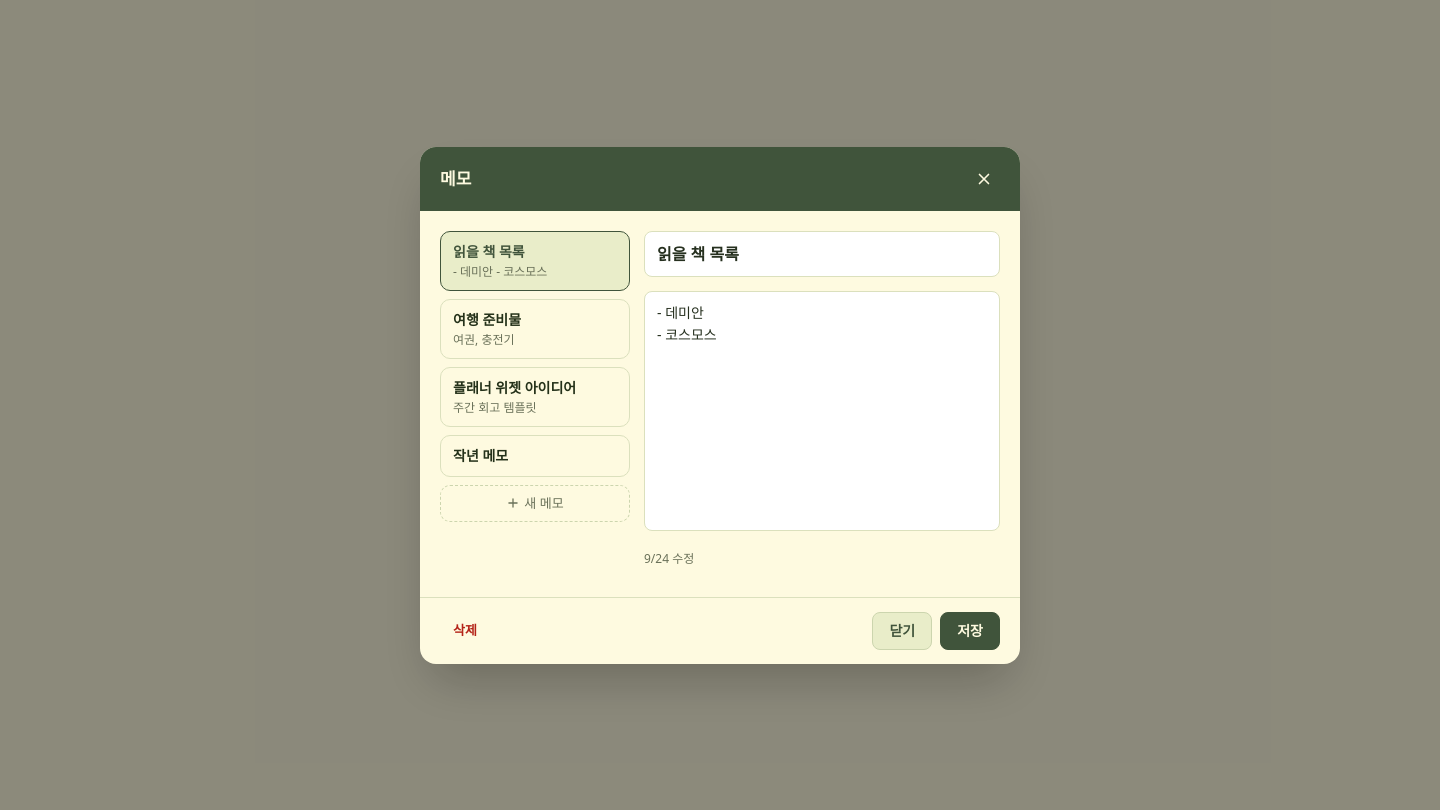
메모 창 OV-06 (US-25) › 바꾼 채 다른 메모를 누르면 "작성을 취소할까요?" (D-037)
Type "!" into the field named "메모 제목".
click(822, 254); type("!")  # box [644, 230, 1000, 276]
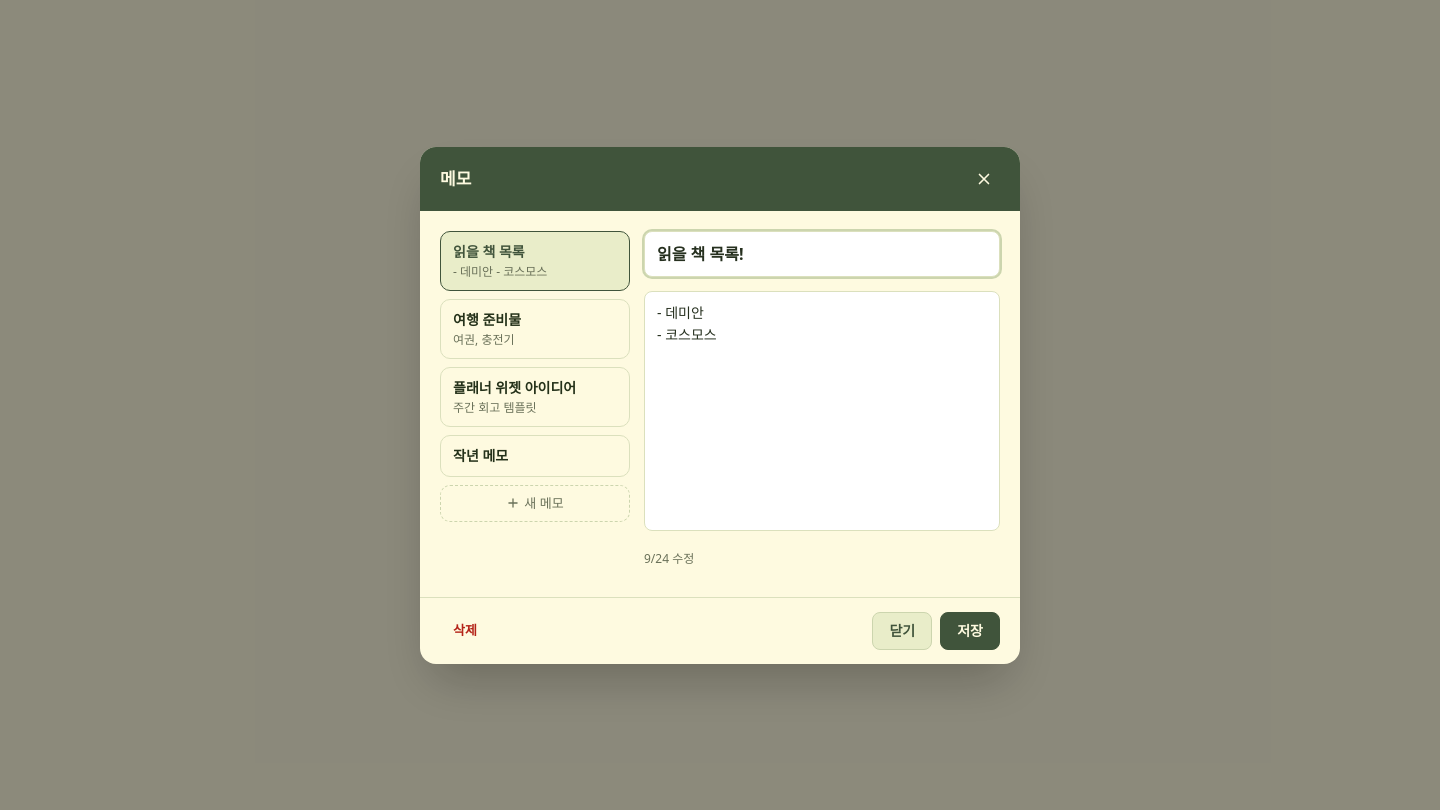
Click the text "여행 준비물".
click(487, 319)  # box [453, 310, 521, 328]
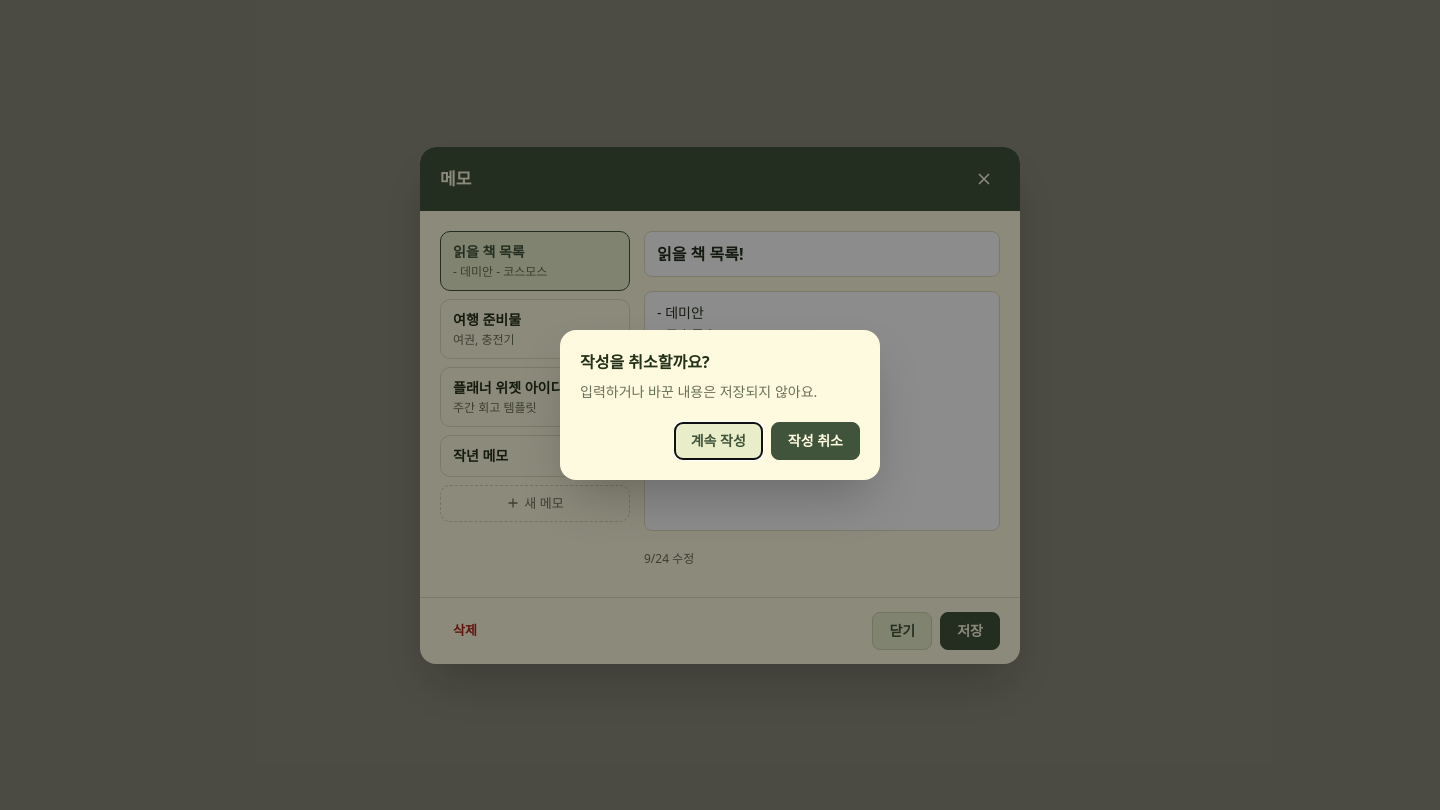
Click the button "계속 작성".
click(718, 441)  # box [674, 422, 763, 460]
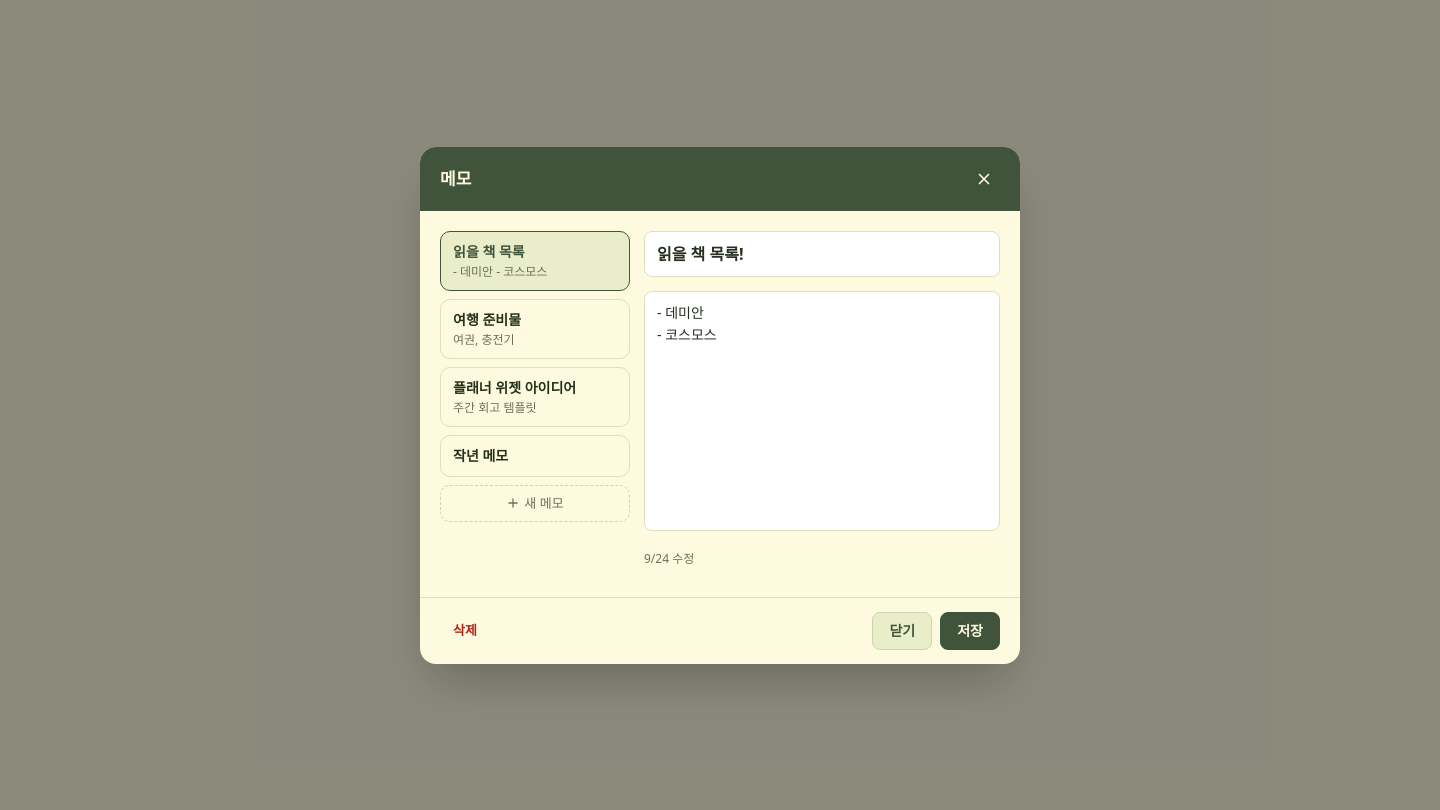
Now the field named "메모 제목" holds "읽을 책 목록!", box [644, 230, 1000, 276]
Click the text "여행 준비물".
click(487, 319)  # box [453, 310, 521, 328]
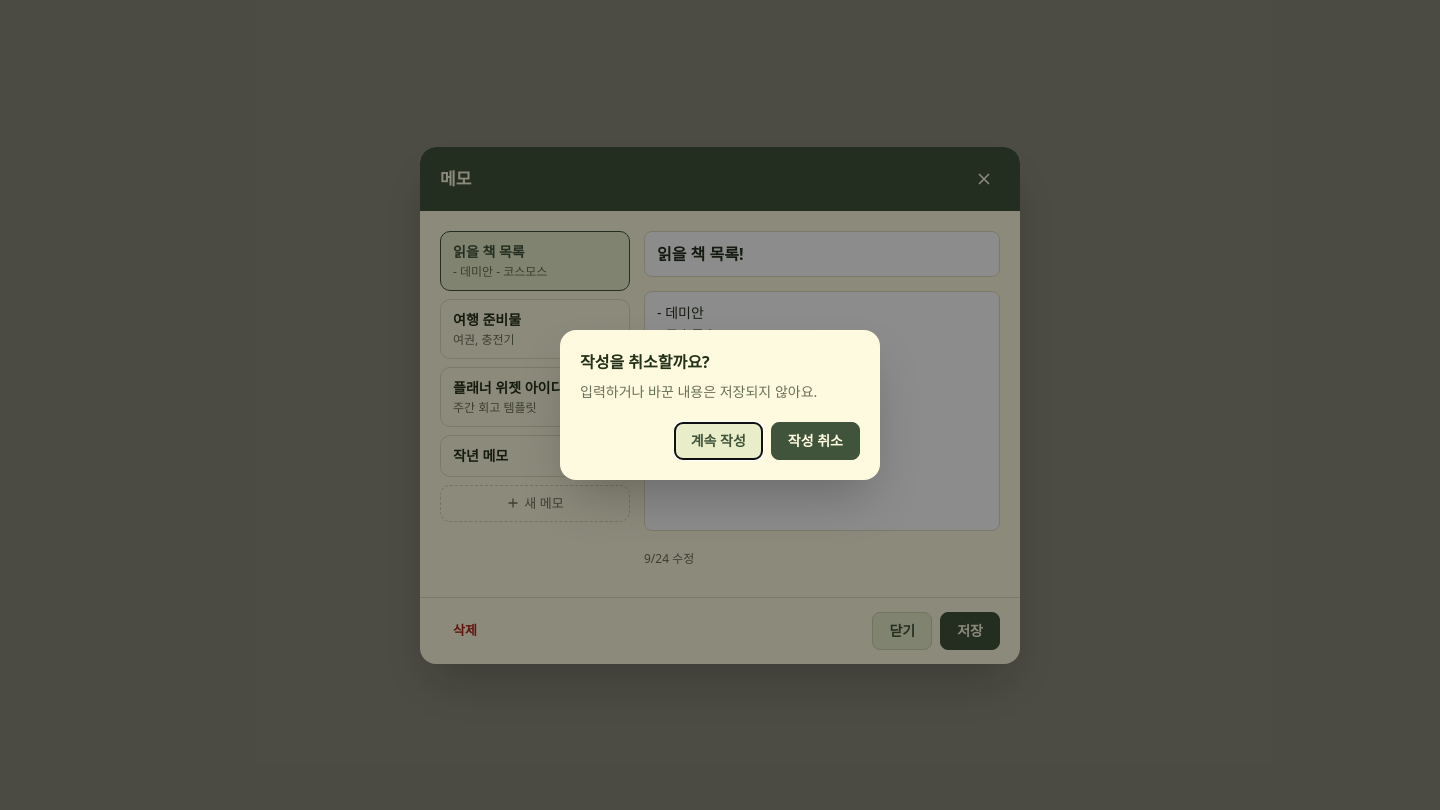
Click the button "작성 취소".
click(815, 441)  # box [771, 422, 860, 460]
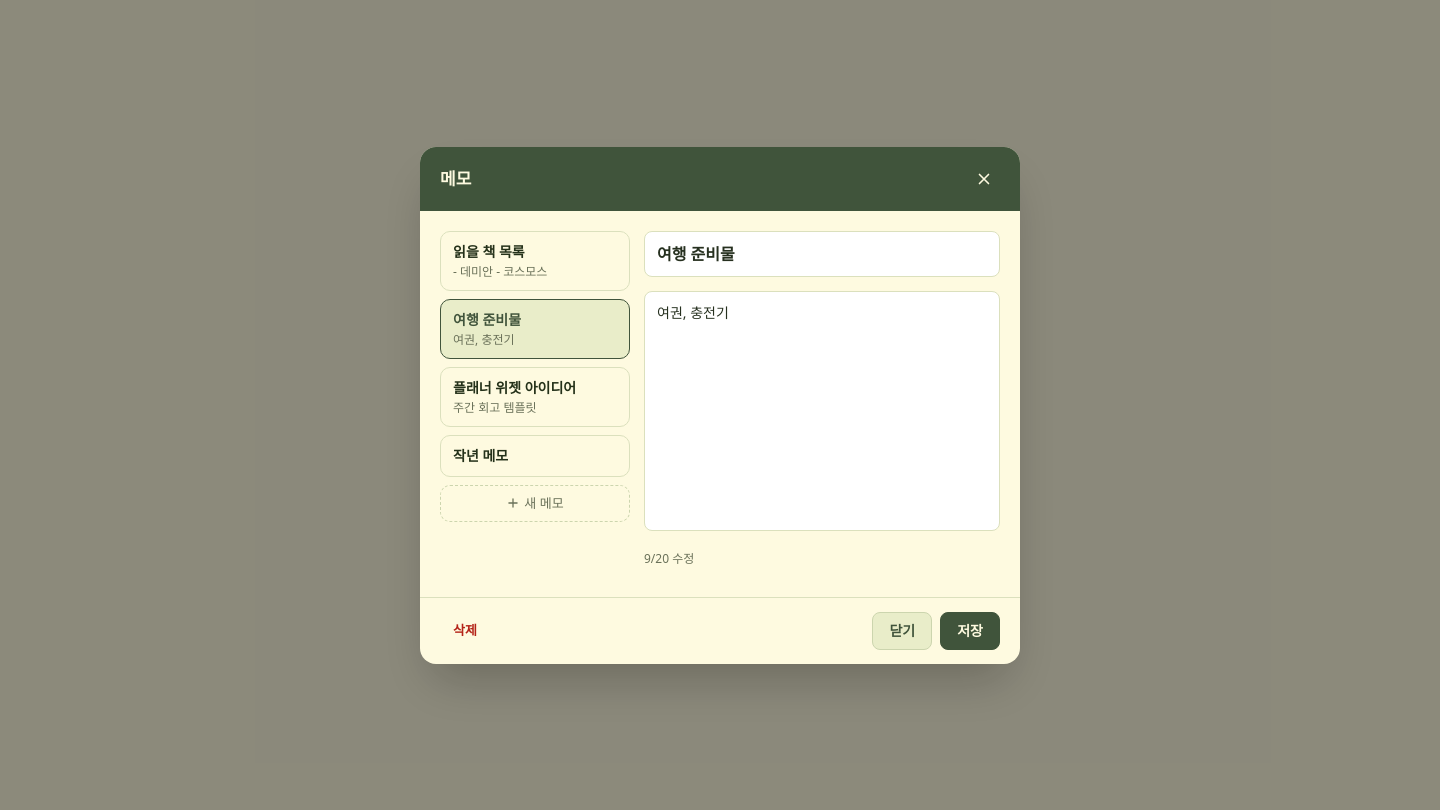
Now the field named "메모 제목" holds "여행 준비물", box [644, 230, 1000, 276]
